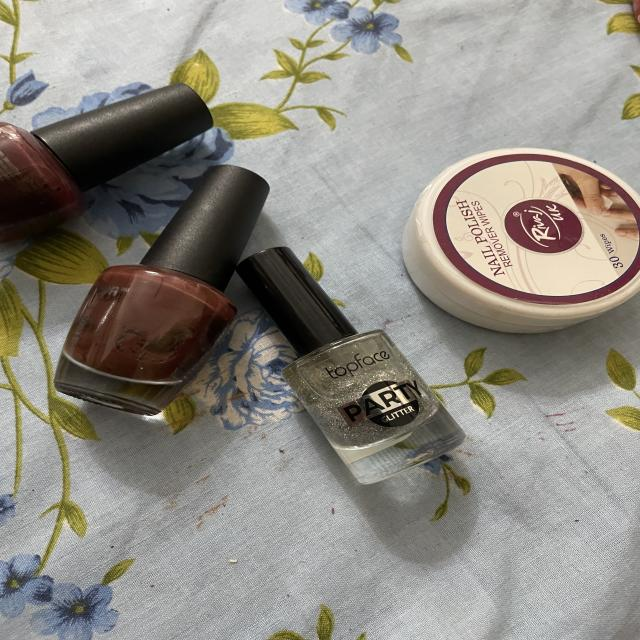nail polish: (214, 239, 480, 485), (45, 148, 274, 417), (0, 70, 229, 247)
nail polish remover: (394, 146, 640, 341)
